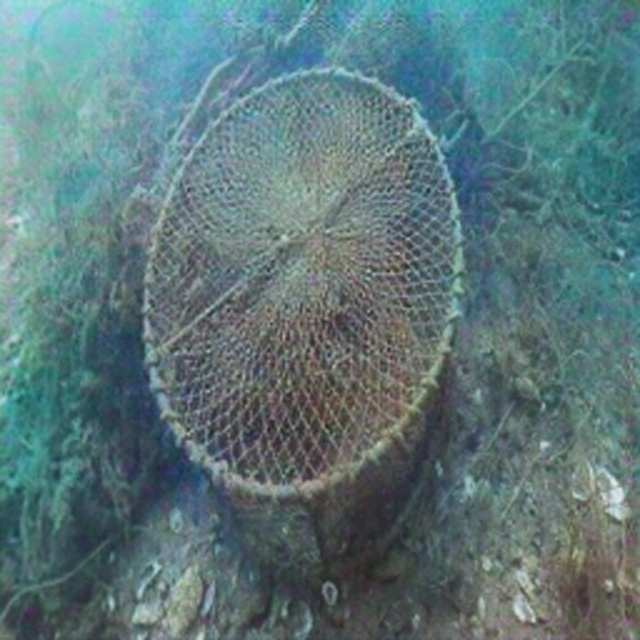mine: (139, 62, 466, 587)
